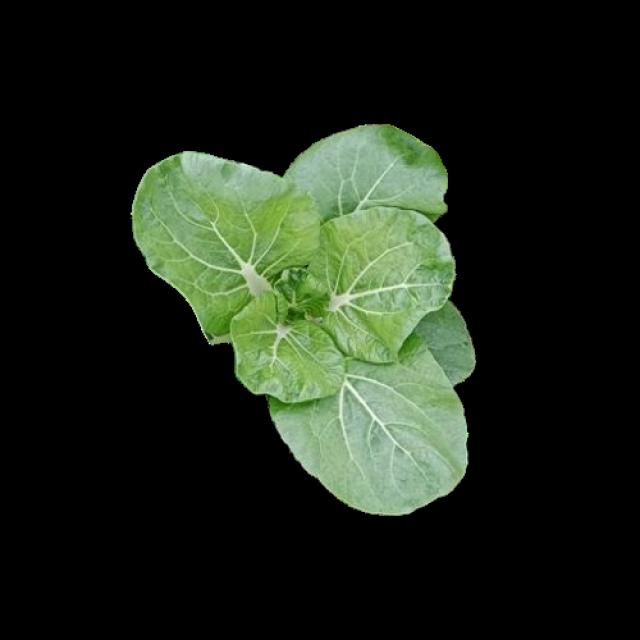healthy: (133, 121, 471, 507)
mature: (136, 124, 473, 510)
